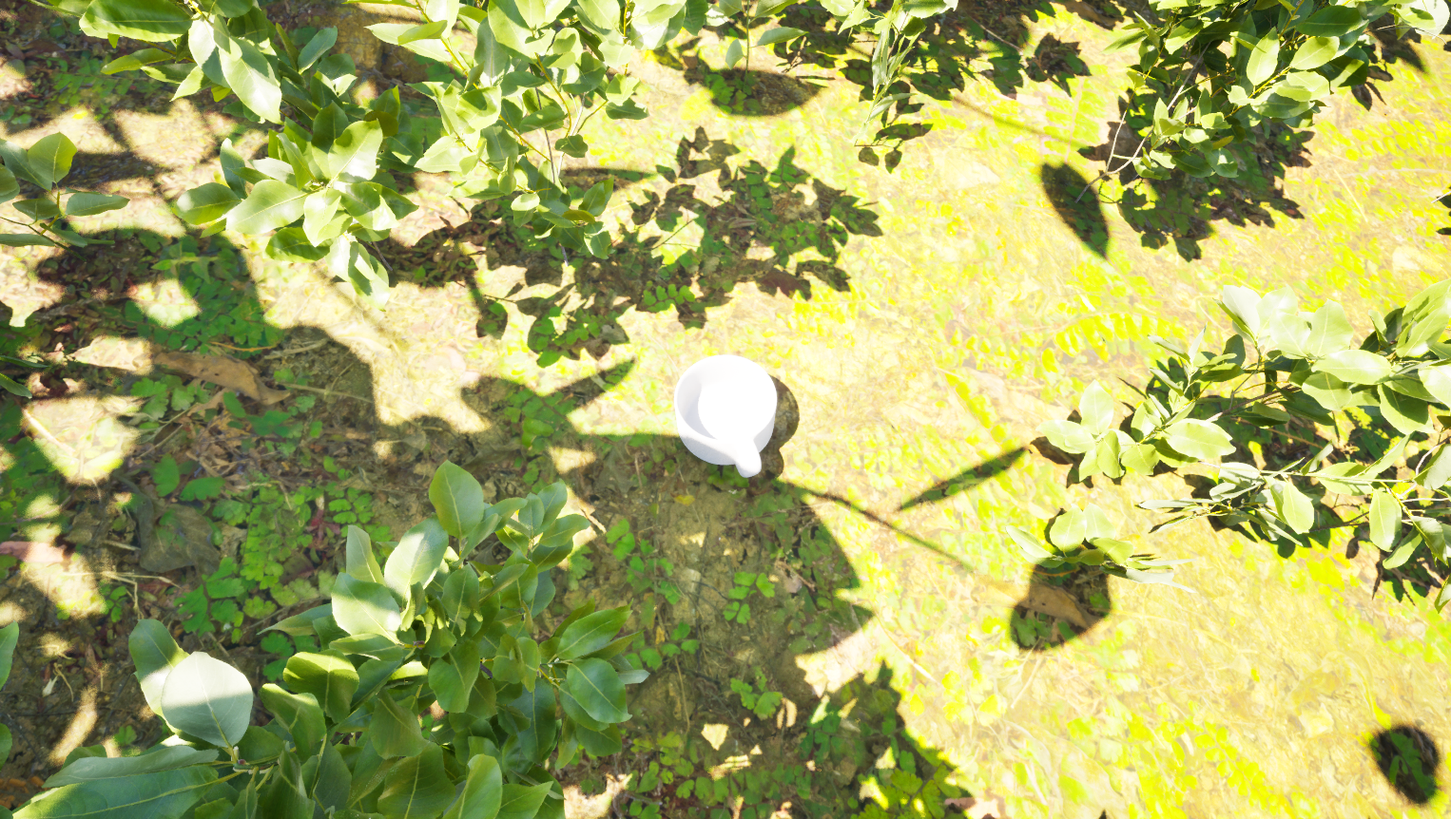Teacup: (657, 346, 786, 489)
